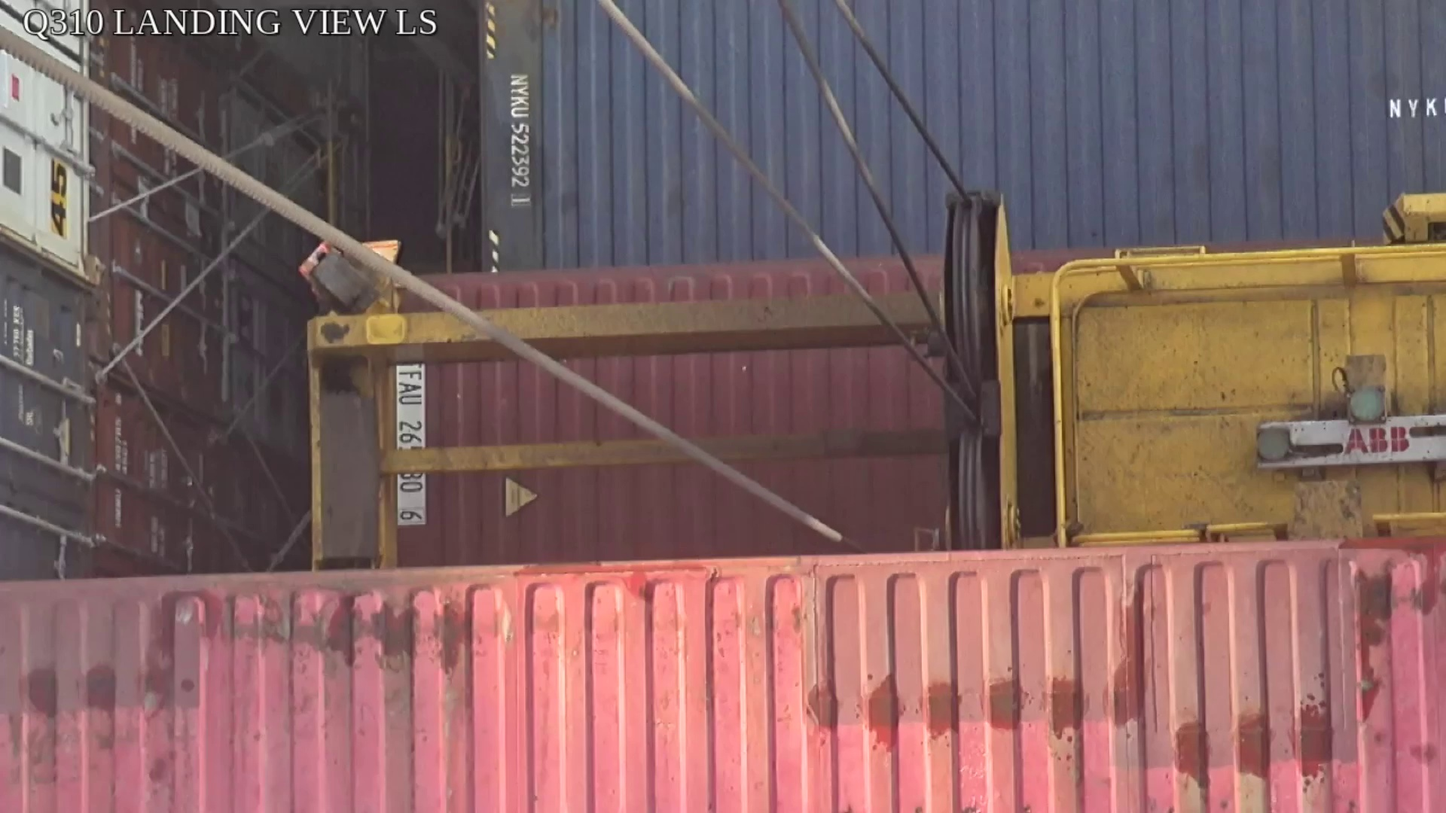aa: (941, 194, 1024, 552)
